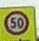limite 50: (3, 10, 28, 35)
